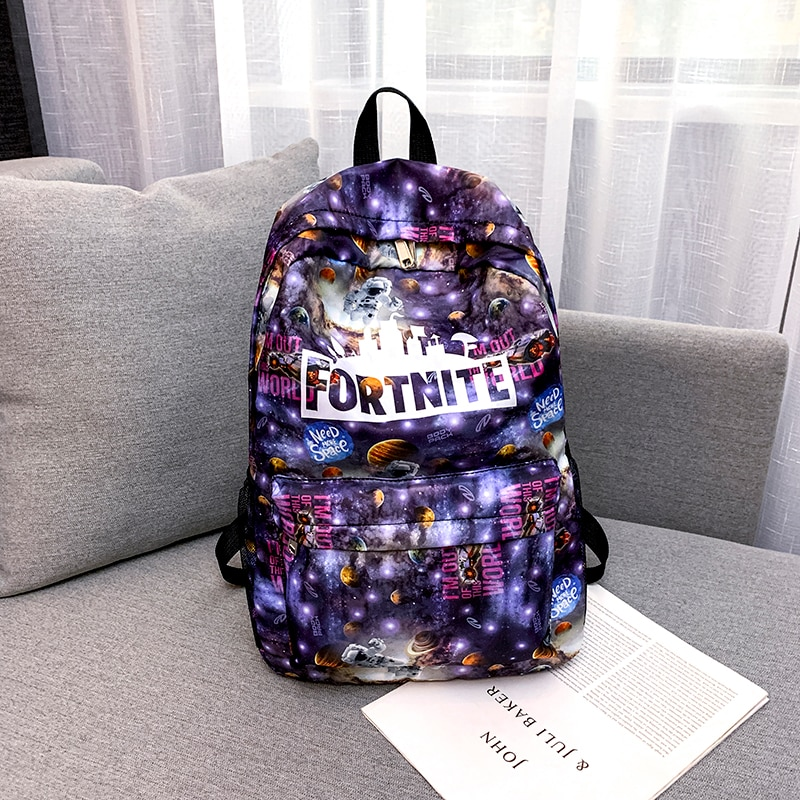Men's Backpacks: (217, 84, 610, 684)
